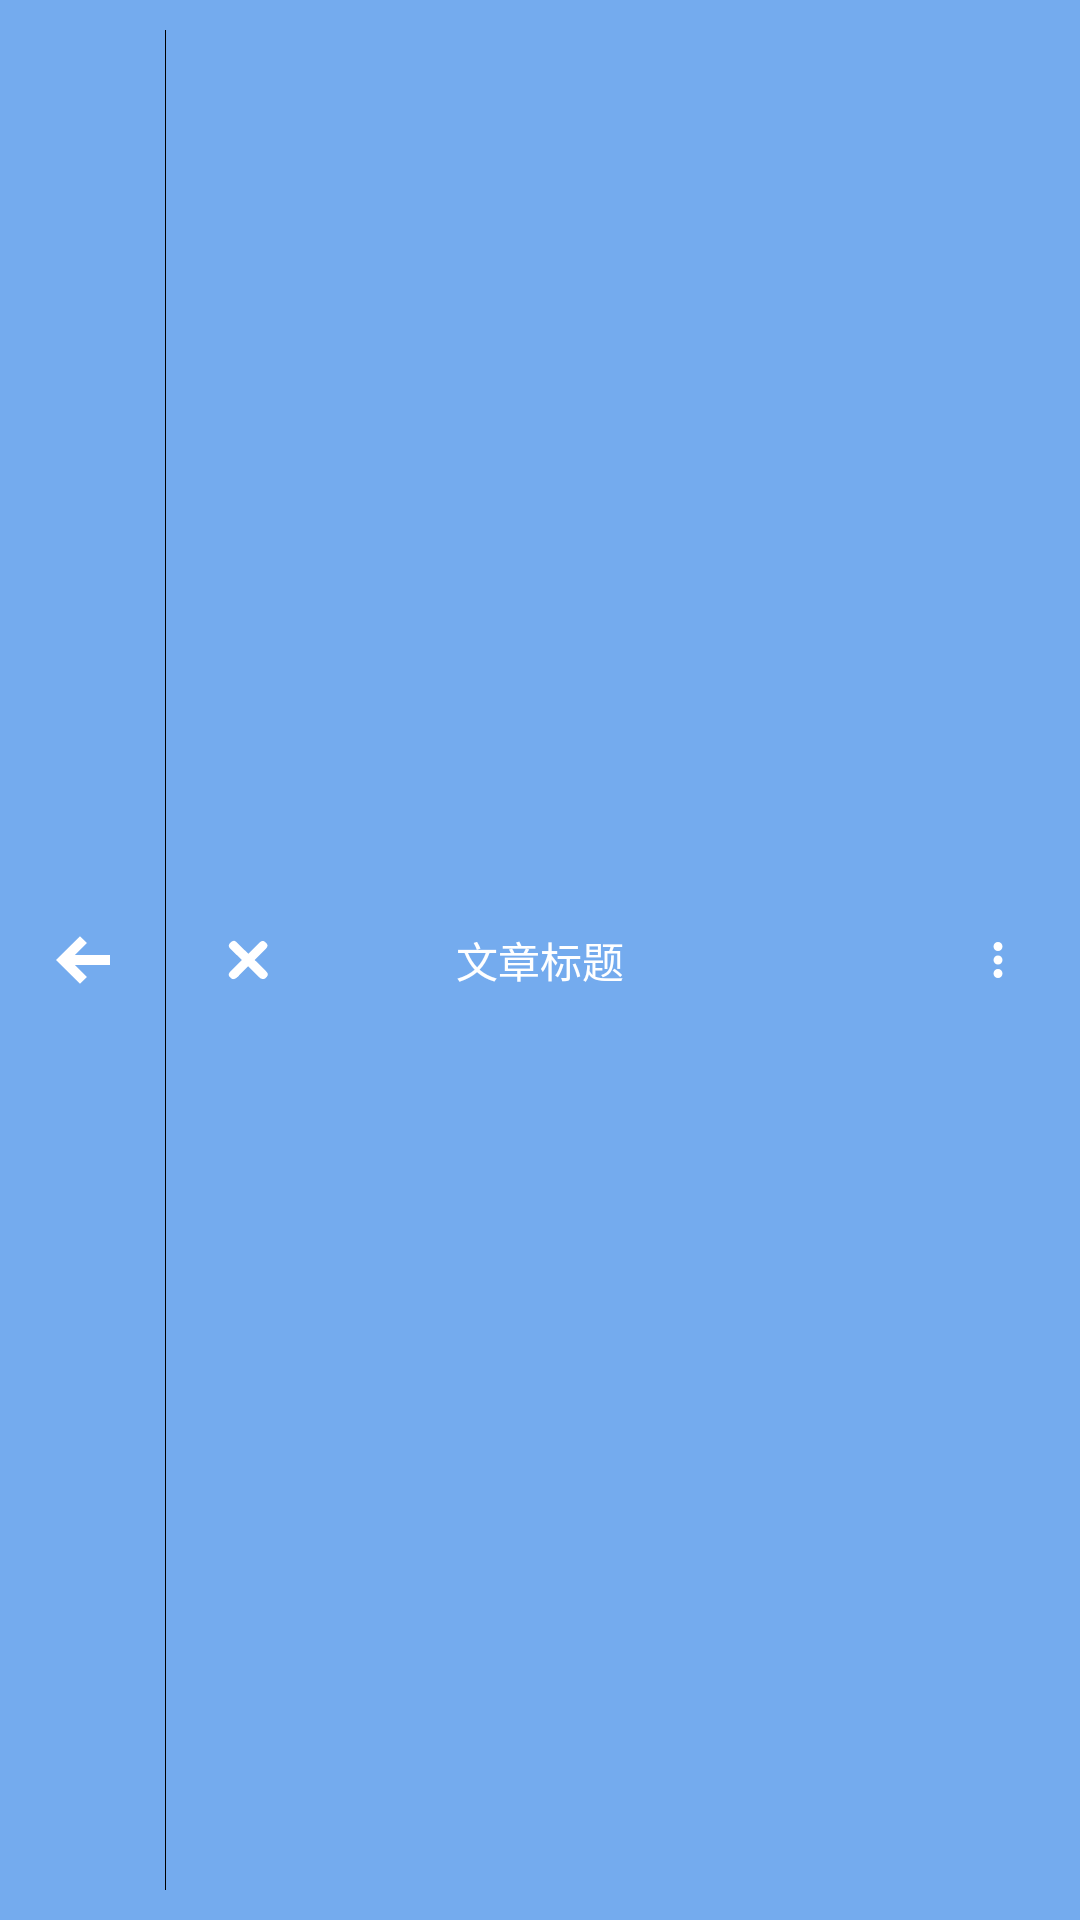

Icon bounding boxes for this 1080×1920 phone screenshot, format (x1, y1, x2, y2):
back: (56, 936, 110, 984)
close: (228, 941, 268, 979)
more: (993, 942, 1003, 978)
